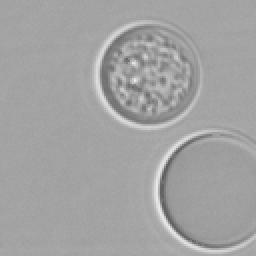picoshell: (154, 130, 252, 252), (94, 20, 202, 128)
